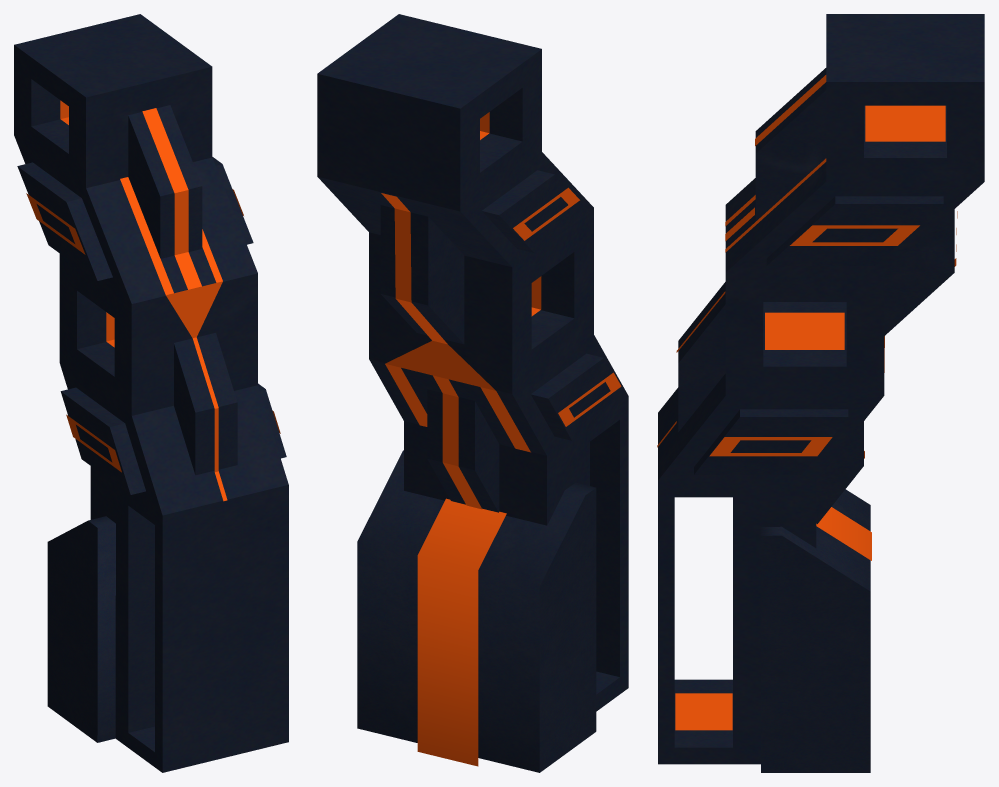
The model's file is Beige Building.fbx.
The picture shows the model from 3 angles, left to right: view 1: azimuth 30°, elevation 25°; view 2: azimuth 150°, elevation 25°; view 3: azimuth 270°, elevation 25°; orthographic projection. The views are drawn at different scales.
Visible parts, largest first — view 1: Beige Building, Neon6; view 2: Beige Building, Neon6; view 3: Beige Building, Neon6.
Part boxes in pixels (x1,y1,x2,y2): Beige Building: (14, 14, 288, 772); Neon6: (26, 100, 280, 501); Beige Building: (317, 14, 628, 772); Neon6: (381, 112, 621, 766); Beige Building: (658, 14, 984, 772); Neon6: (657, 75, 957, 730).
Bounding box in the file's own units: 38.35 × 143 × 61.37.
